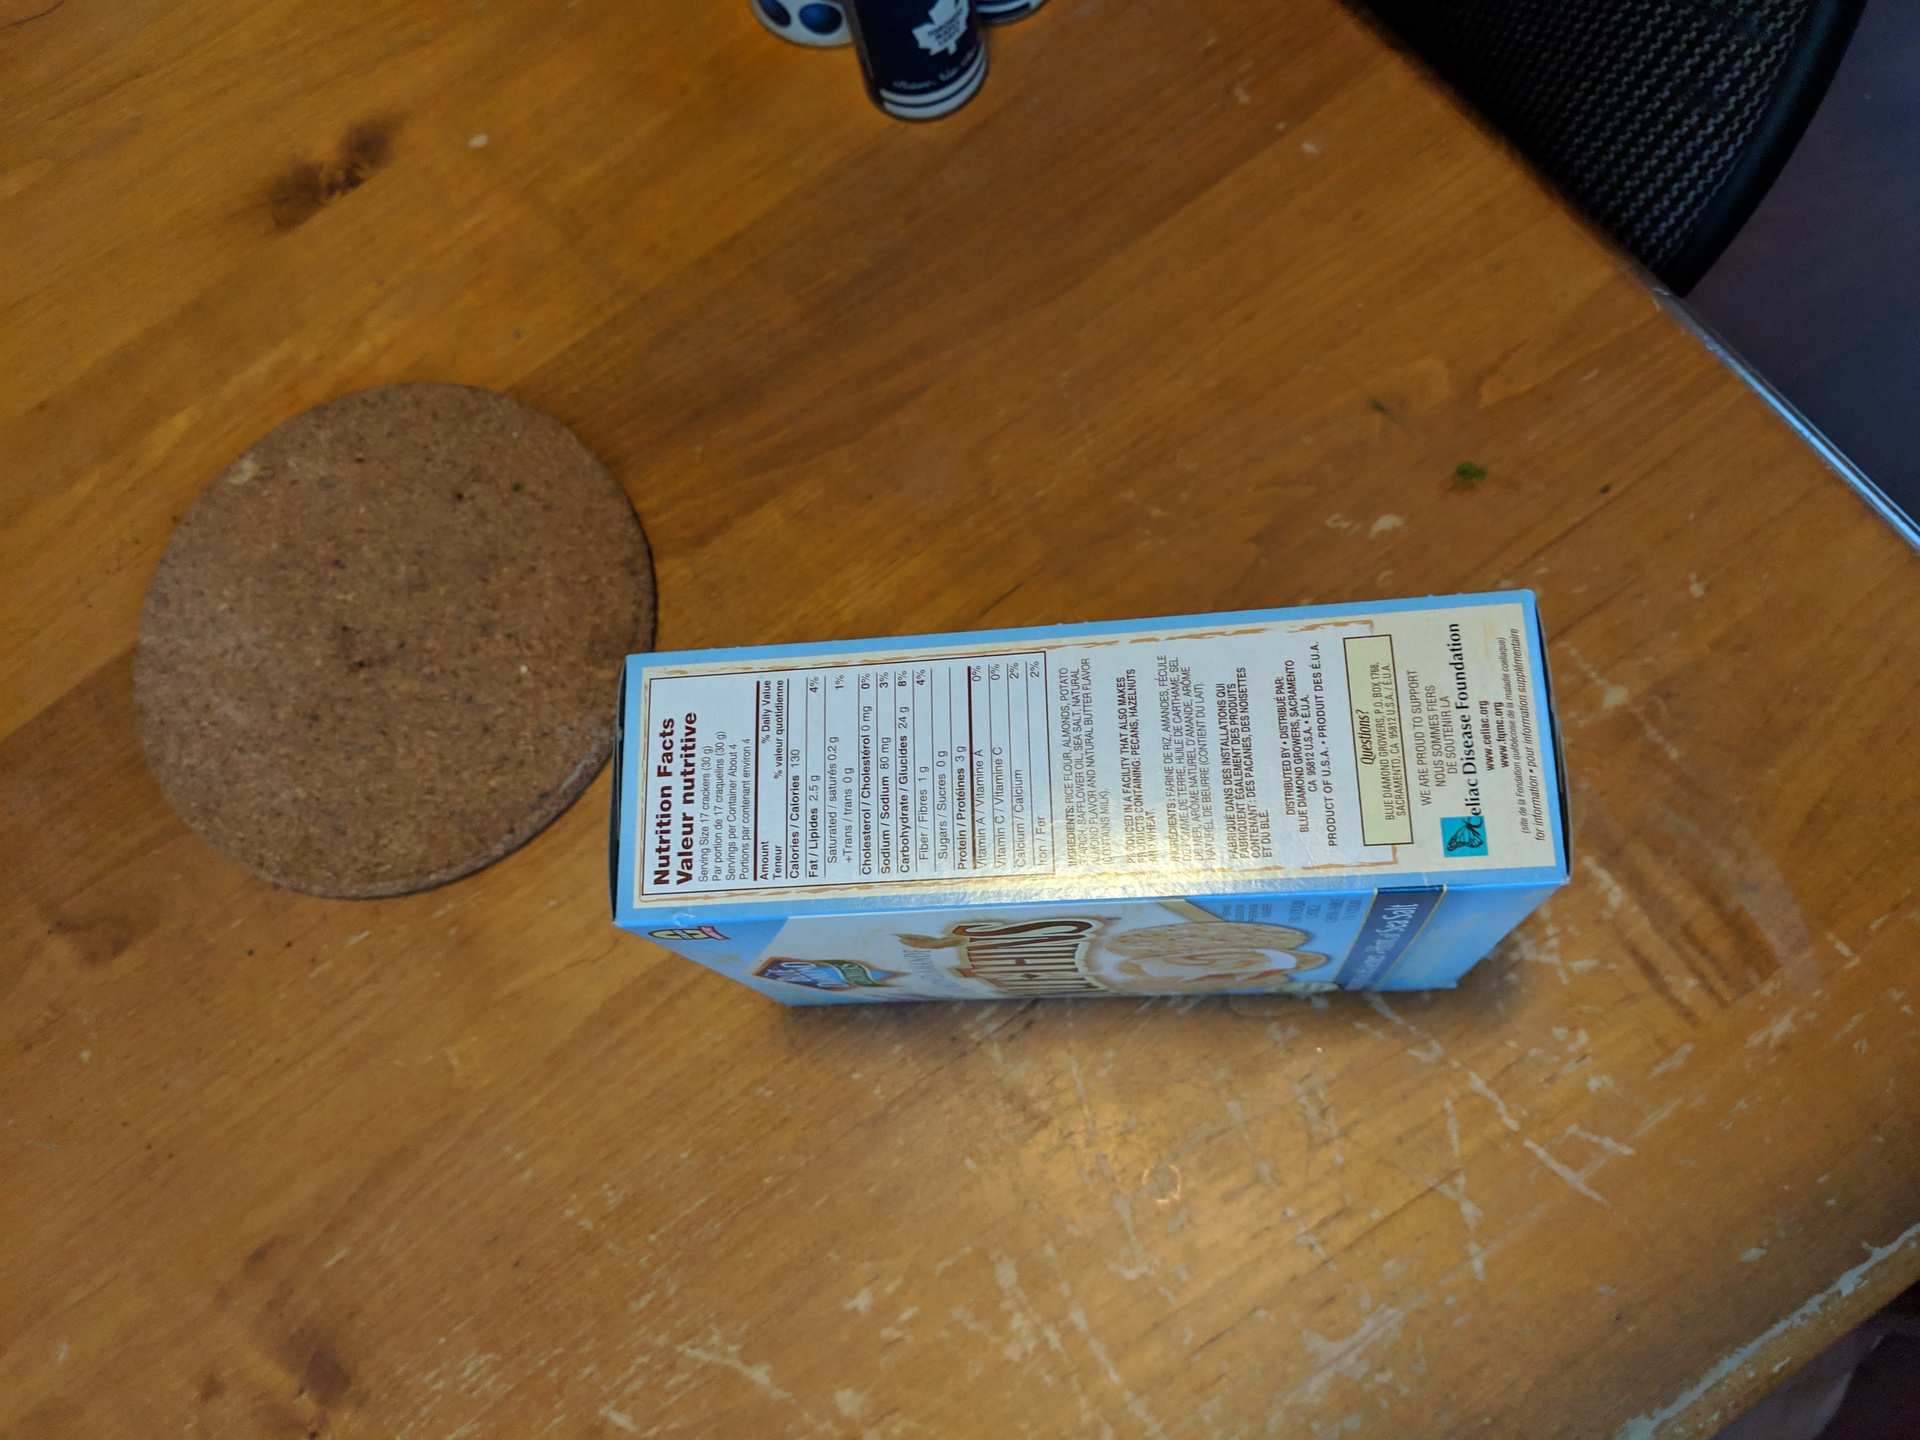blue_diamond_nut_thins_almond_seasalt: (626, 616, 1554, 994)
